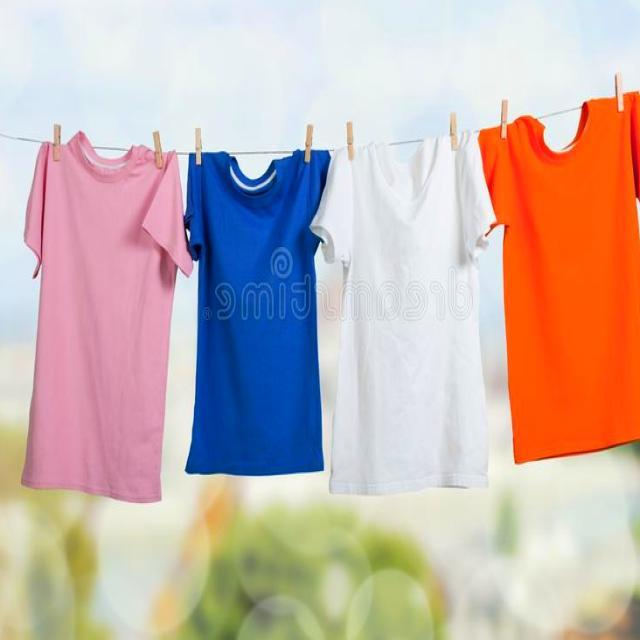clothes: (326, 109, 477, 504), (494, 68, 640, 471), (23, 140, 168, 507), (188, 143, 325, 490)
